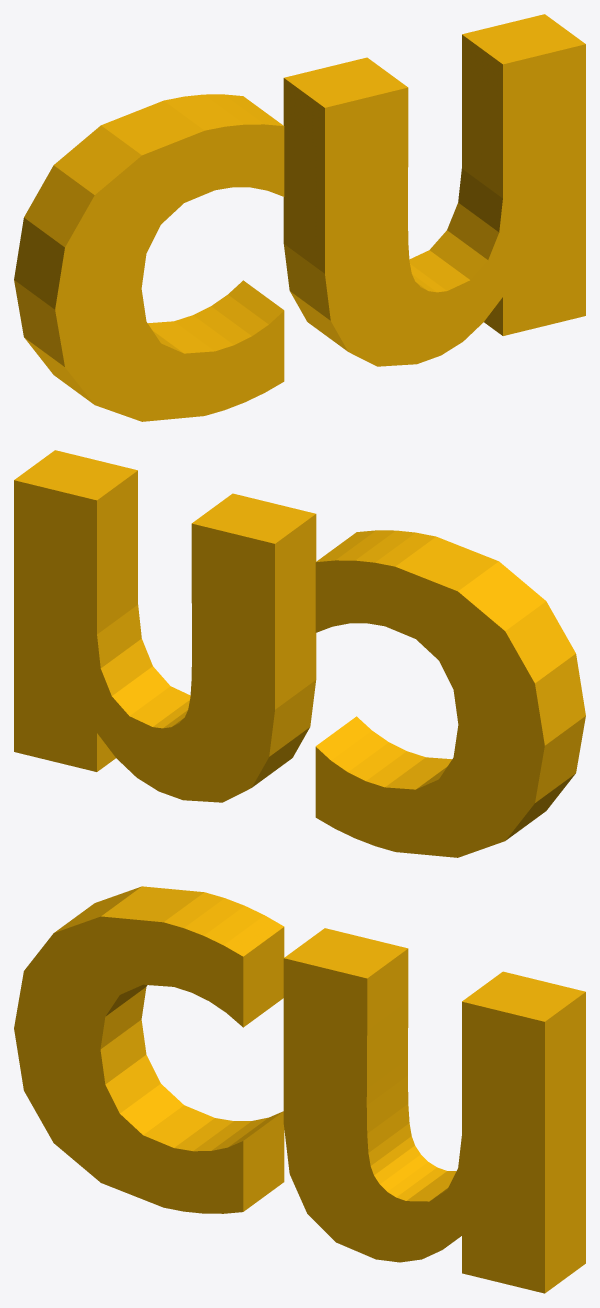
Rendered from suku_kecil_cu.glb.
3 renders of one model, top to bottom at view 1: azimuth 30°, elevation 25°; view 2: azimuth 150°, elevation 25°; view 3: azimuth 330°, elevation 25°, orthographic.
Visible parts, largest first — view 1: geometry_0; view 2: geometry_0; view 3: geometry_0.
Boxes of the visible parts, x1,y1,x2,y2 form: geometry_0: [14, 14, 585, 421]; geometry_0: [14, 450, 585, 857]; geometry_0: [14, 886, 585, 1293].
Size of the model in its own units: 11.18 by 5.74 by 1.5.
